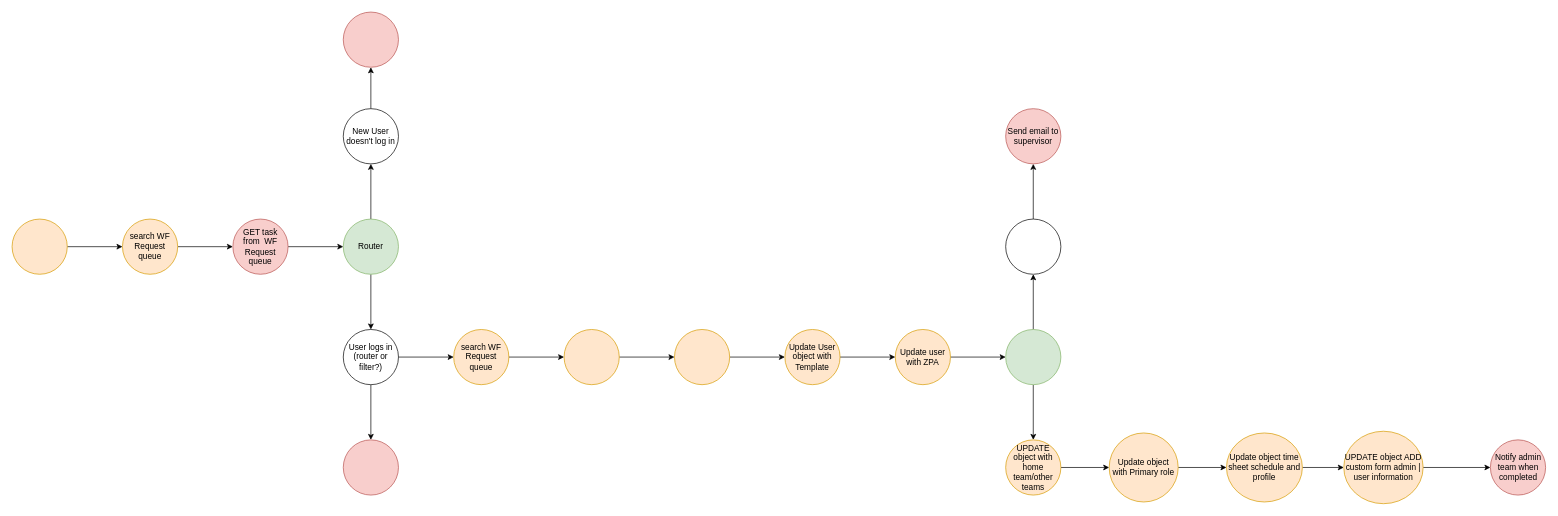
The diagram is 1558 pixels wide and 516 high, and some of its shapes have lost their labels. The box of each missing label's shape, as (x1, y1, x2, y2) in pixels:
GET WF Request Queue Task: (563, 329, 619, 385)
Missing home team: (1005, 218, 1061, 274)
notify admin team of new login: (343, 439, 398, 495)
resend email: (343, 11, 398, 67)
Router for home team: (1005, 329, 1061, 385)
Search new user report: (11, 218, 67, 274)
Update User object with permissions: (674, 329, 730, 385)
